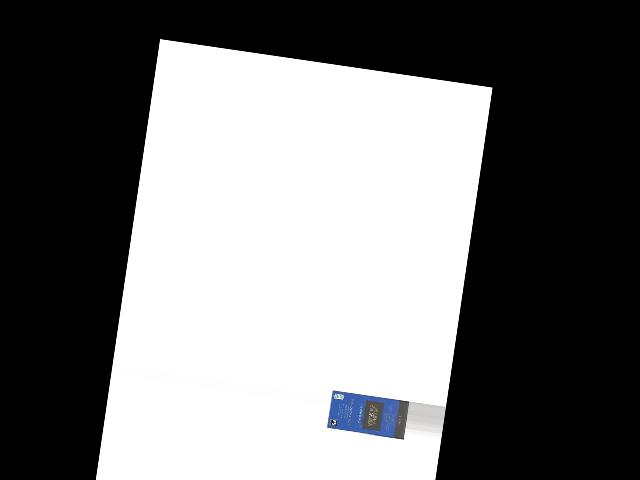chocolate: (328, 389, 409, 439)
